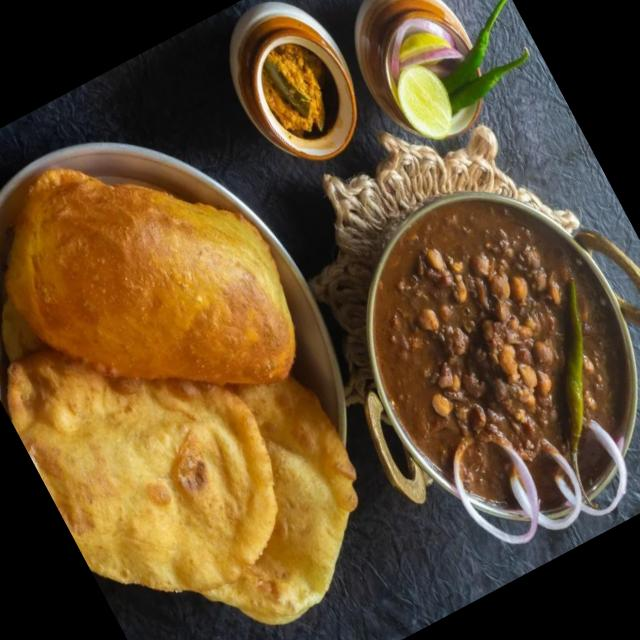Bhatura: (0, 94, 429, 640)
